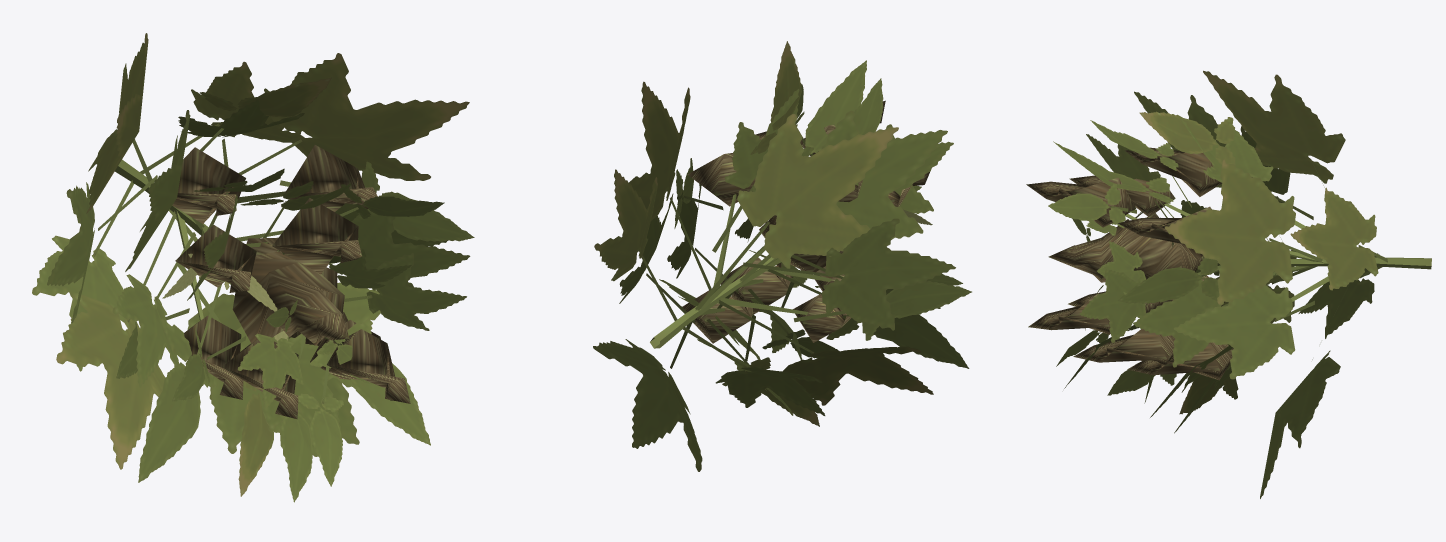
Rendered from p_dark_afghan_ripe_c1_cards.obj.
3 views of the same model, side by side, from view 1: azimuth 30°, elevation 25°; view 2: azimuth 150°, elevation 25°; view 3: azimuth 270°, elevation 25° (orthographic). The views are drawn at different scales.
Bounding box in the file's own units: 1.23 × 1.39 × 1.16.
1 material, 1 textured.
